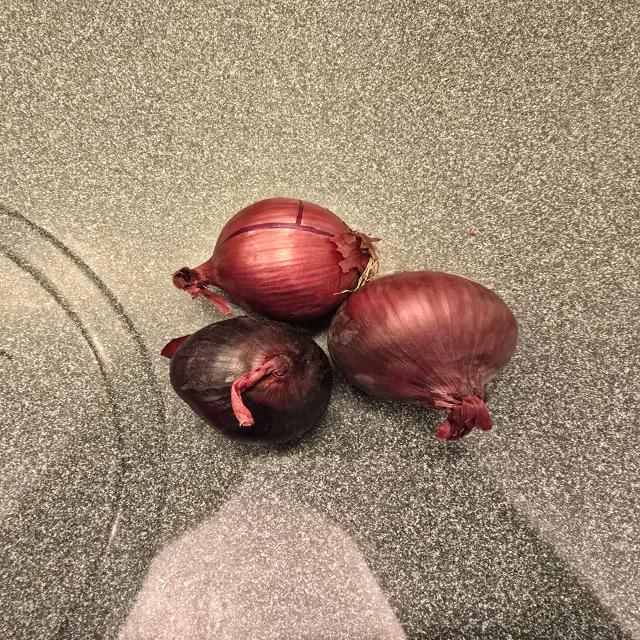Onion: (328, 271, 516, 441), (173, 198, 378, 322), (165, 316, 333, 444)
